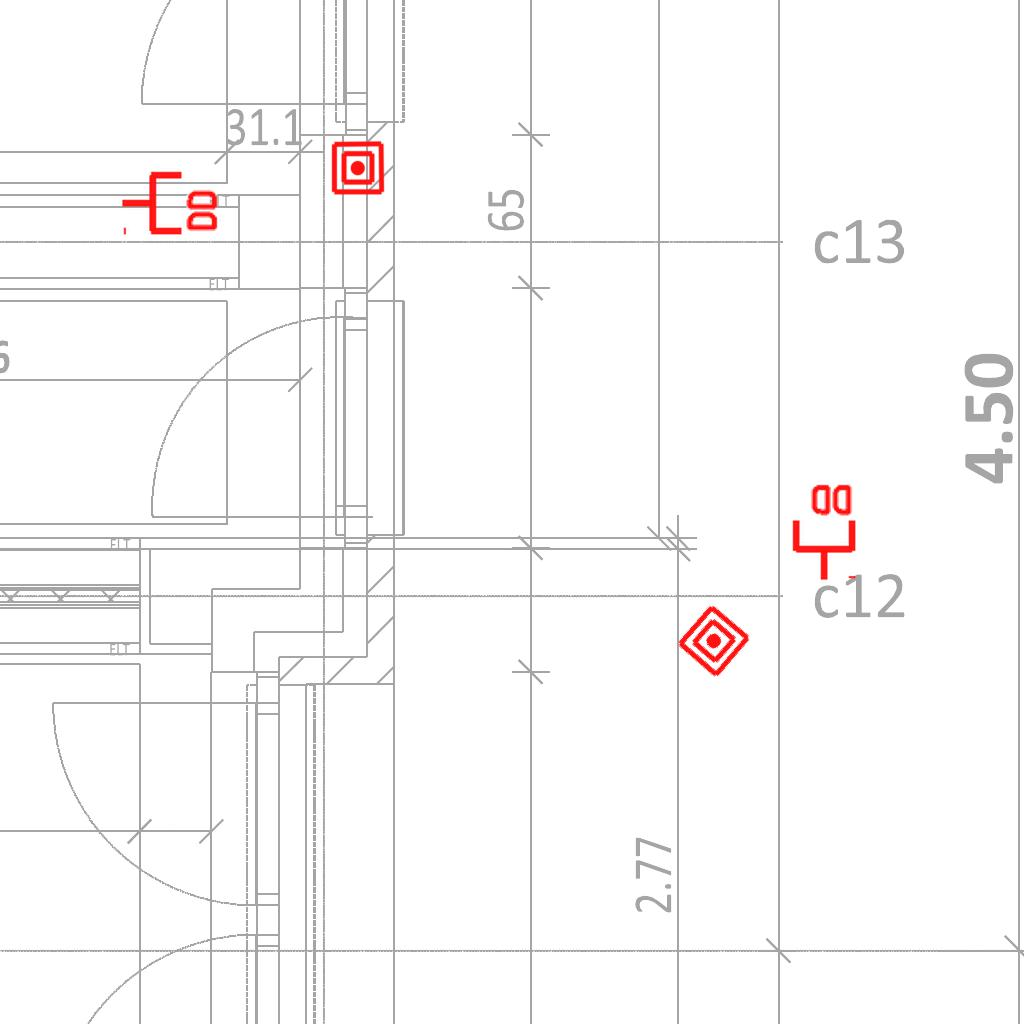Datenanschluss_zweifach: (788, 480, 857, 583), (119, 167, 222, 236)
NAM-Nichtautomatischer_Melder: (674, 601, 754, 681), (330, 140, 386, 196)
